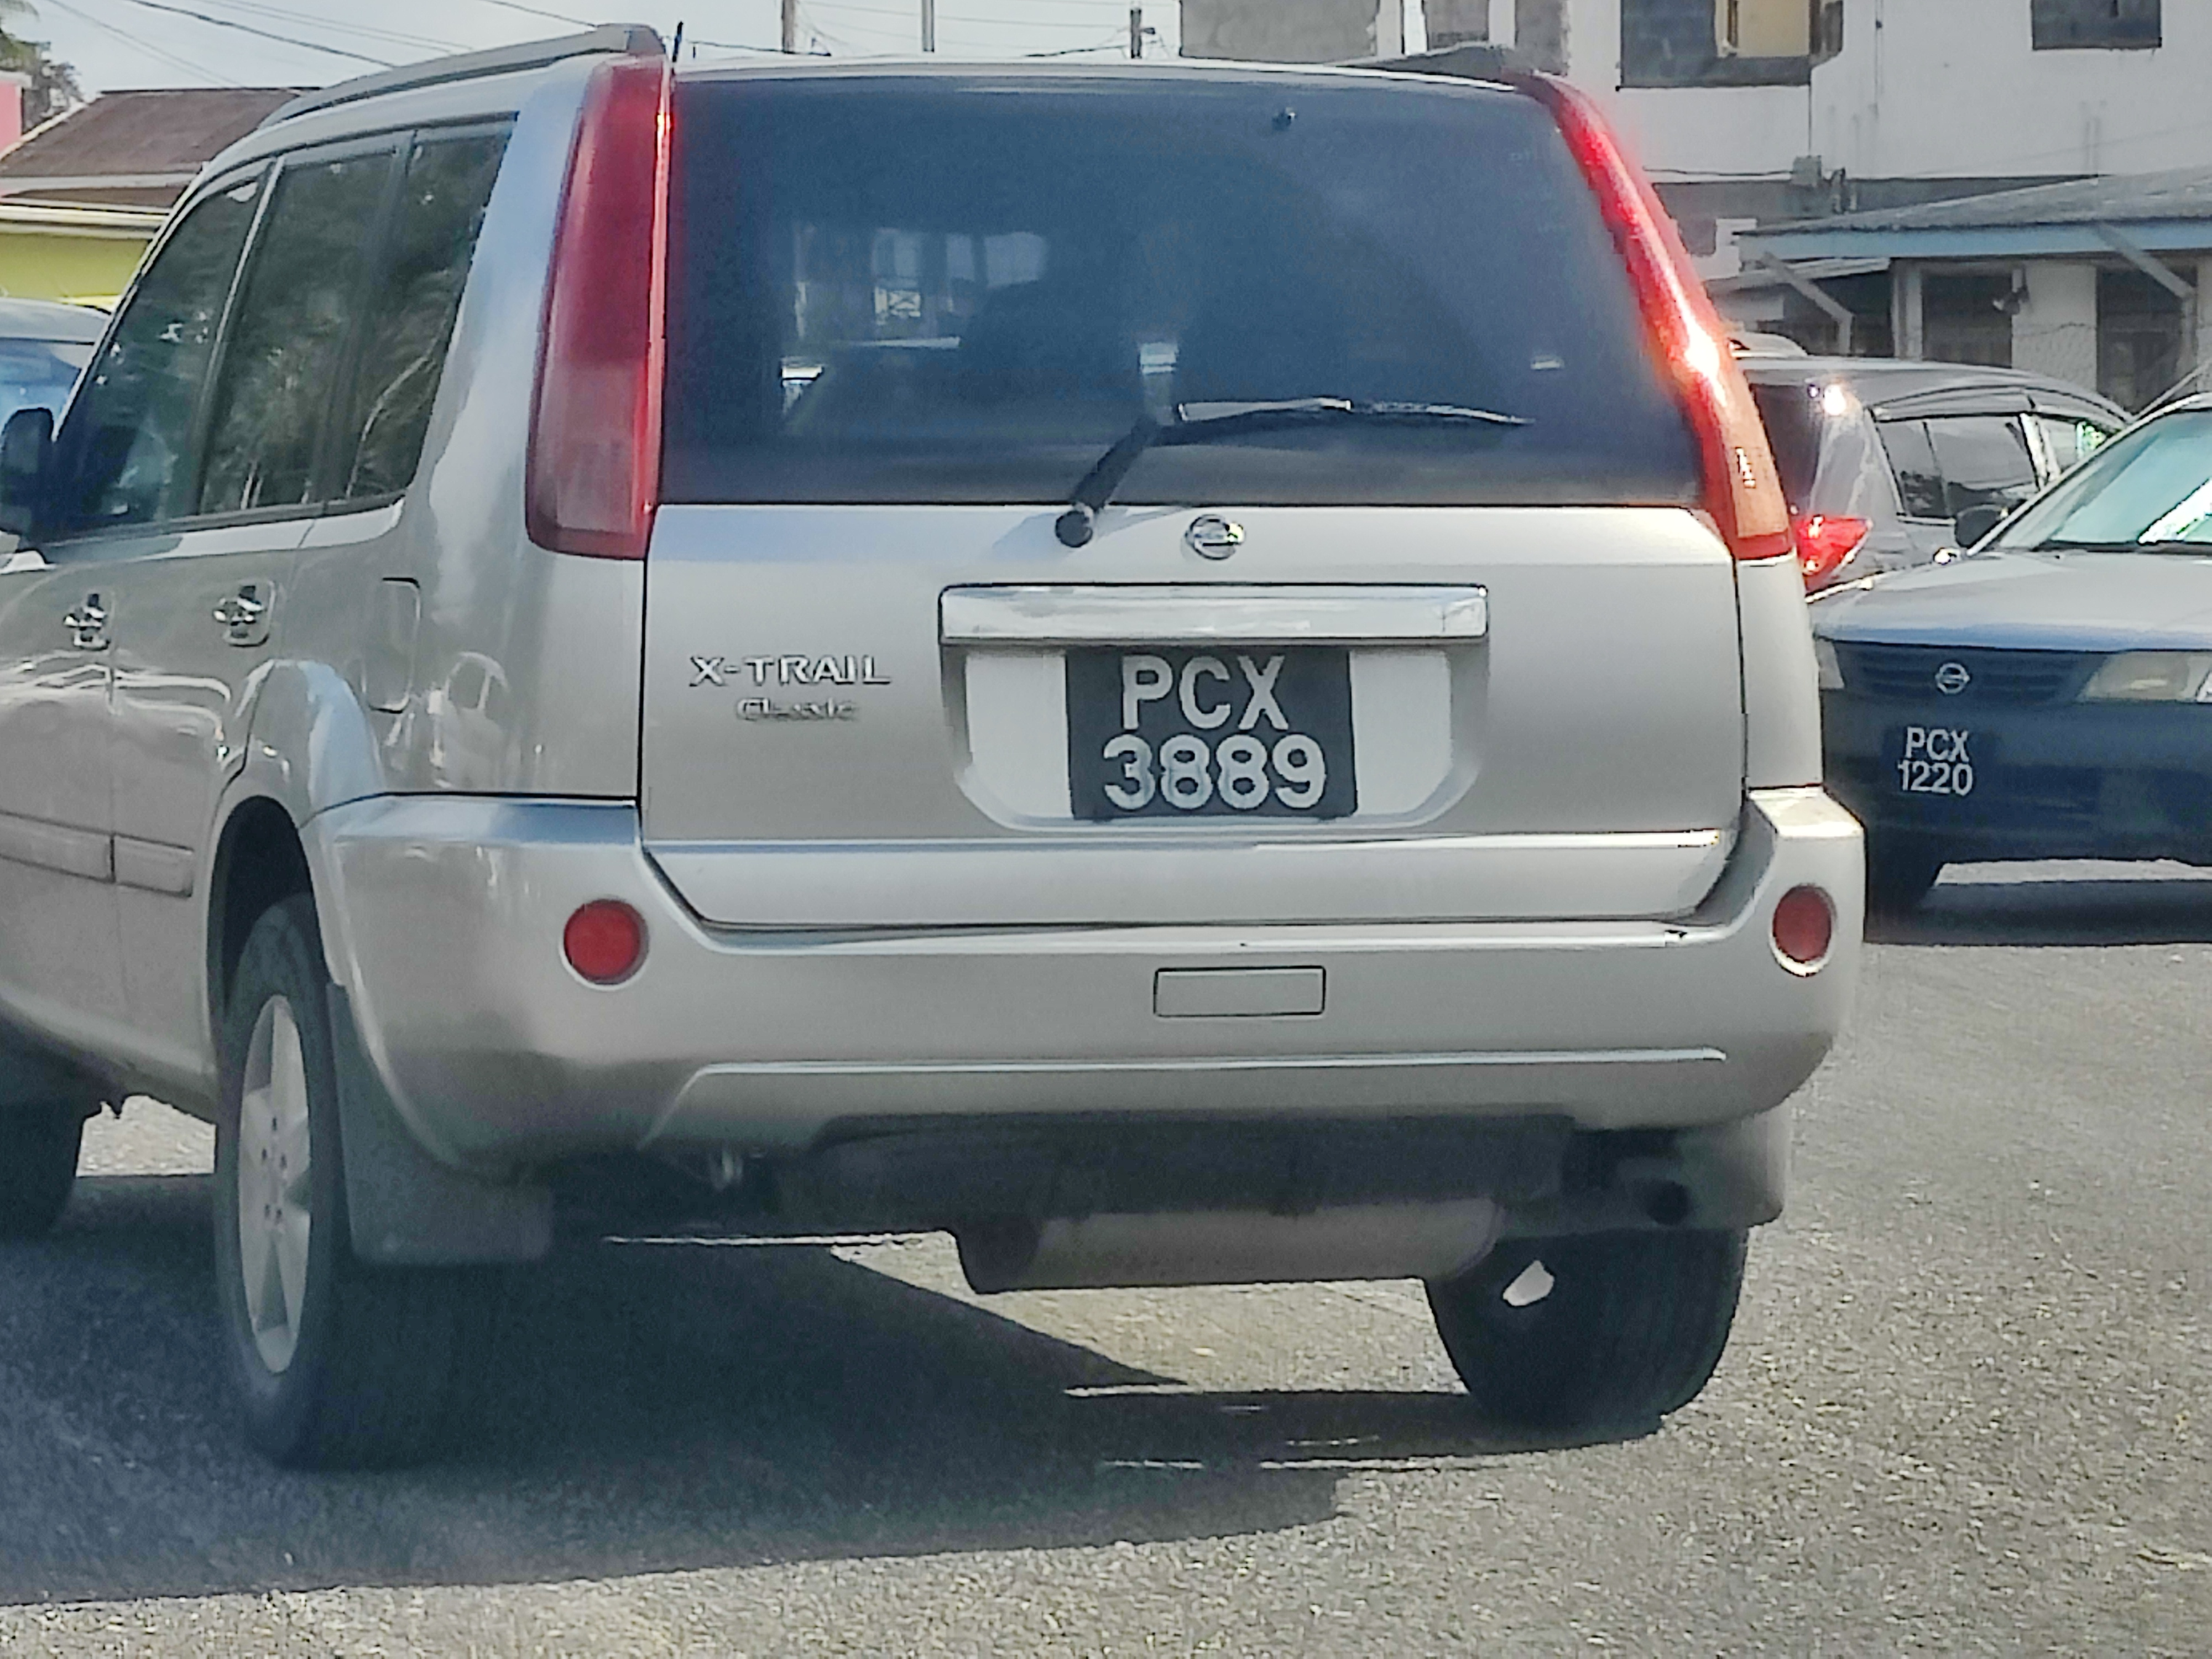License-Plate: (1067, 648, 1353, 815), (1887, 721, 1991, 794)
